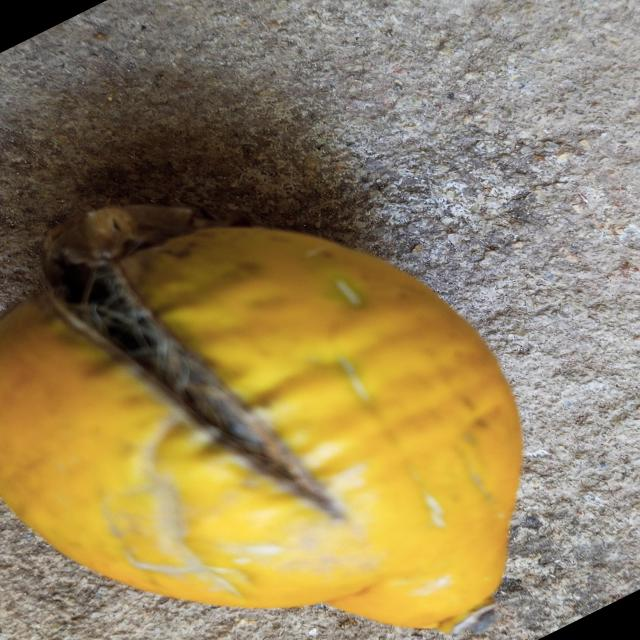damaged: (0, 211, 524, 633)
